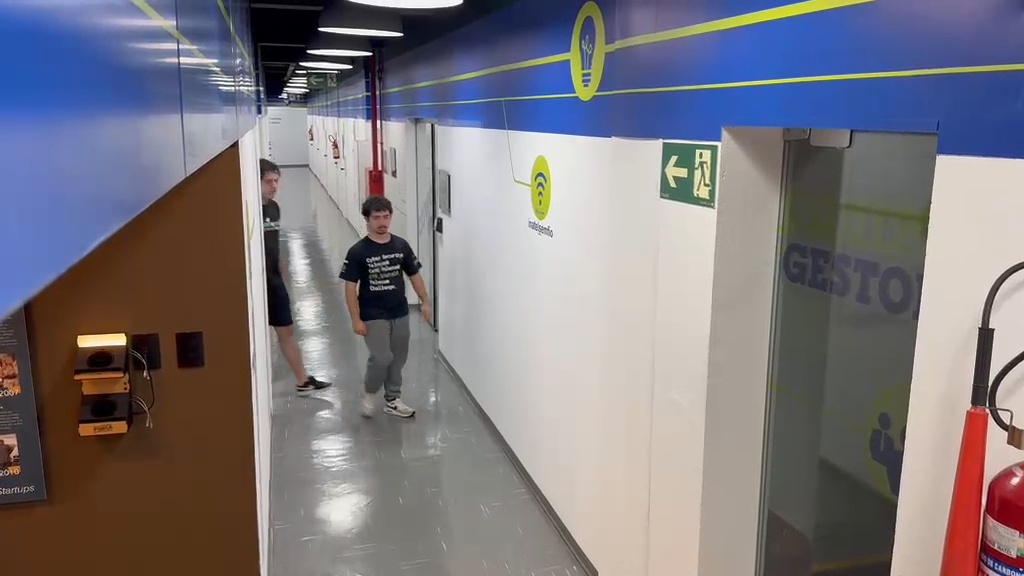person: (339, 196, 429, 419), (260, 159, 329, 392)
